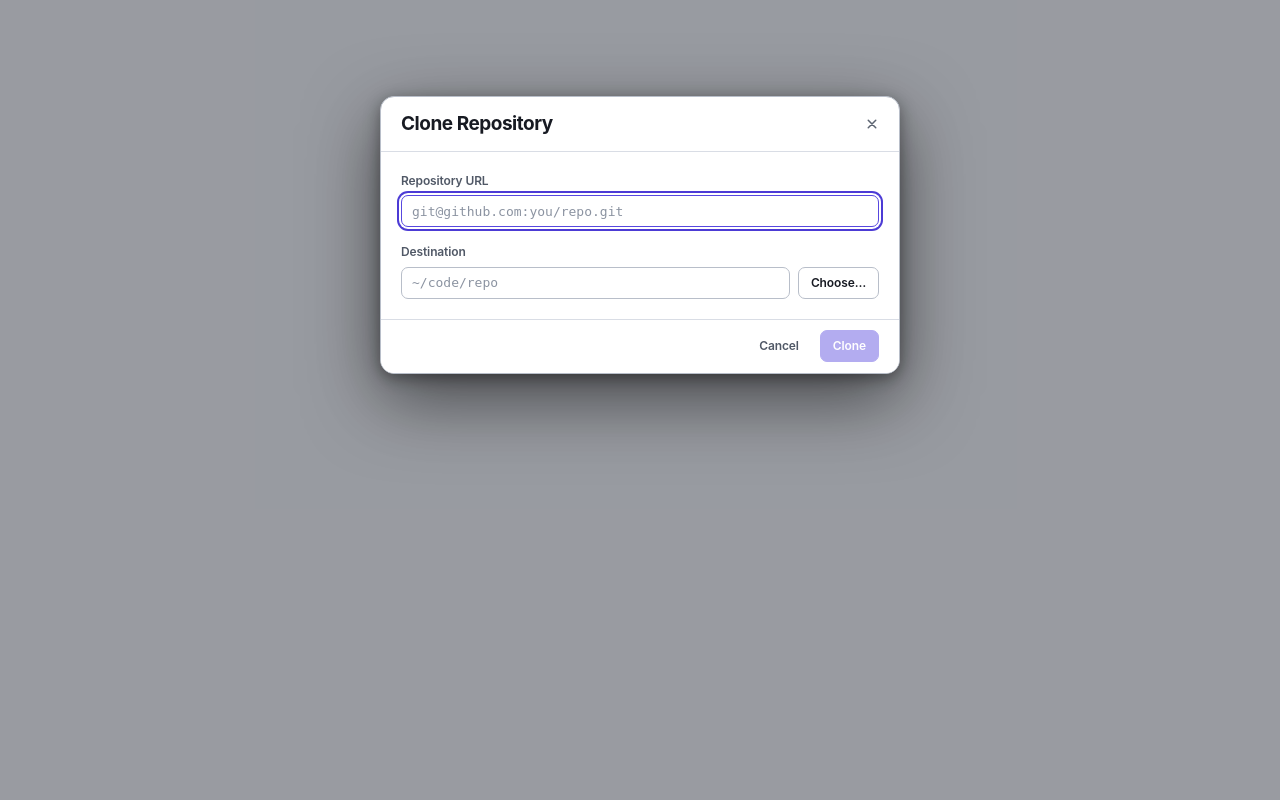
Test case: dialogs › add project: no sentence in any state
Type "/srv/x.git" into the field labelled "Repository URL" at coordinates (640, 211), box [401, 195, 879, 227]
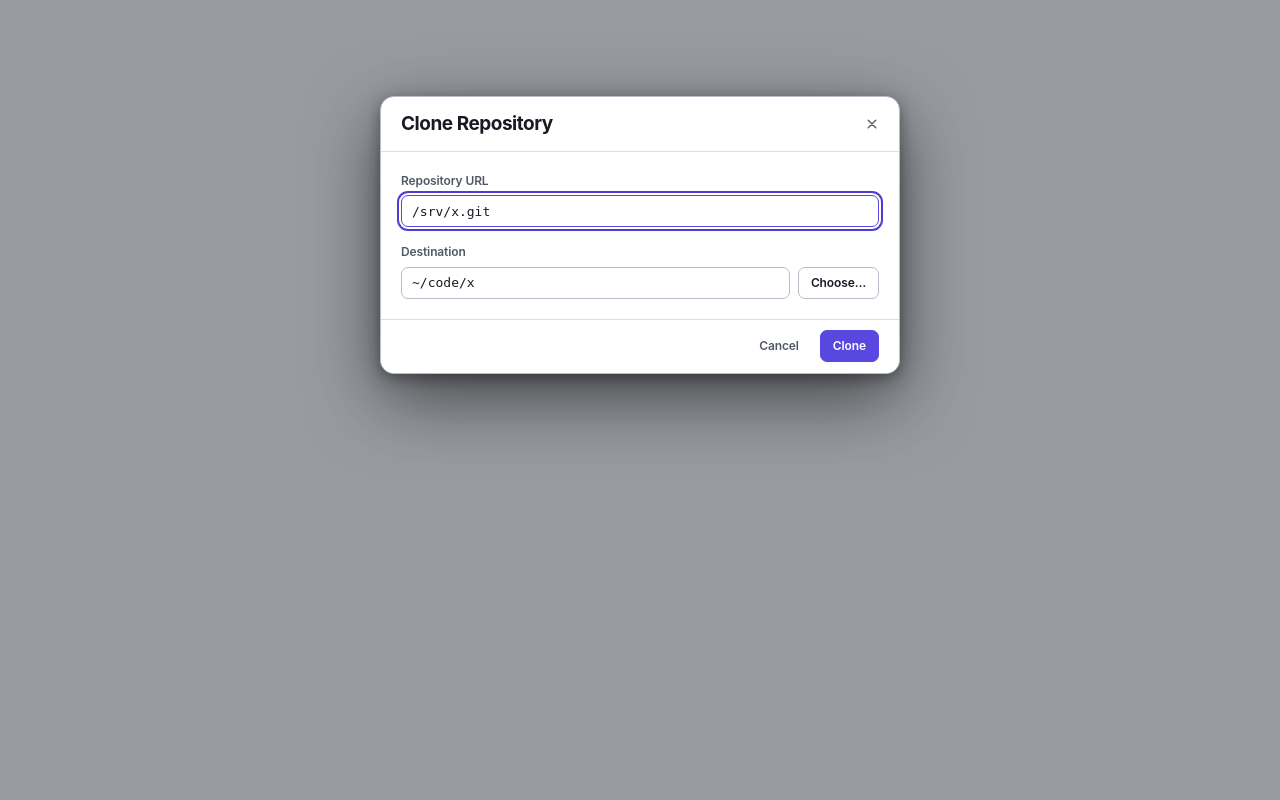
Click the button "Clone" at coordinates (849, 346), box [820, 330, 879, 362]
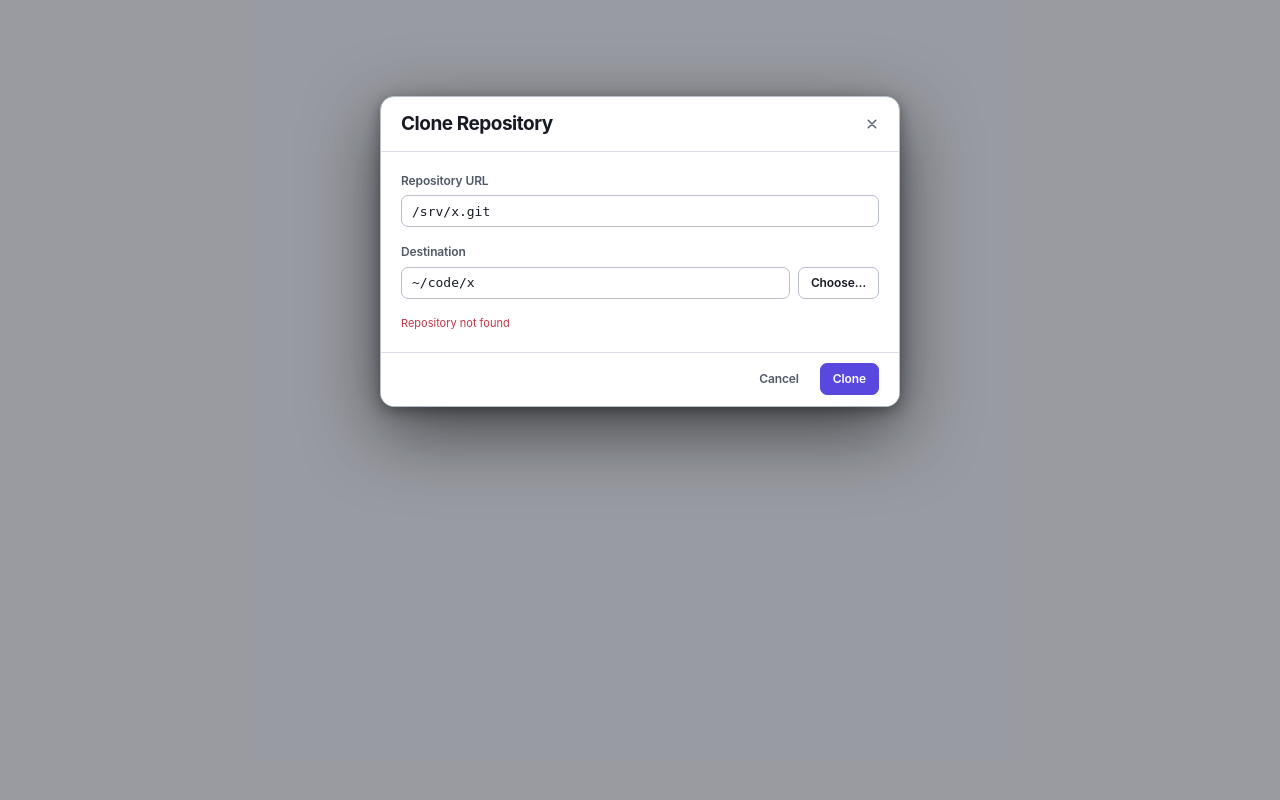
Now the message reads "Repository not found", box [401, 316, 510, 330]
